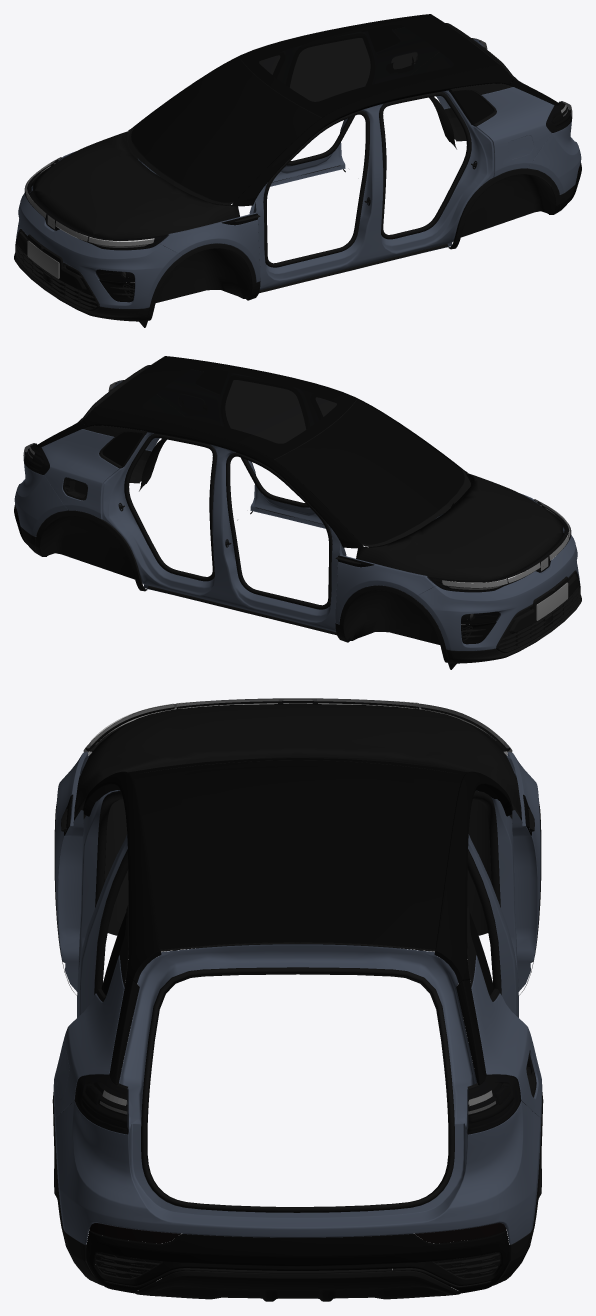
File: Sheel.fbx
3 renders of one model, top to bottom at view 1: azimuth 30°, elevation 25°; view 2: azimuth 150°, elevation 25°; view 3: azimuth 270°, elevation 25°, orthographic. The views are drawn at different scales.
Visible parts, largest first — view 1: Sheel_other01, Sheel_CarPaint01, Sheel_FrontWindshield, Sheel_RoofGlass, polySurface797, Sheel_LightGlass, Sheel, Electricity, back_glass, LicensePlate_front, Headlamps_glass; view 2: Sheel_other01, Sheel_CarPaint01, Sheel_FrontWindshield, Sheel_RoofGlass, Sheel_LightGlass, Sheel, back_glass, LicensePlate_front, Headlamps_glass; view 3: Sheel_other01, Sheel_CarPaint01, Sheel_RoofGlass, Sheel_LightGlass, polySurface797, BackFollowing_light, Sheel, back_glass, Sheel_FrontWindshield, Electricity.
Part boxes in pixels (<box>): Sheel_other01: <box>14,14,581,327</box>; Sheel_CarPaint01: <box>15,39,581,308</box>; Sheel_FrontWindshield: <box>131,57,321,202</box>; Sheel_RoofGlass: <box>239,14,498,117</box>; polySurface797: <box>474,87,554,177</box>; Sheel_LightGlass: <box>24,38,572,250</box>; Sheel: <box>26,40,566,245</box>; Electricity: <box>499,91,545,164</box>; back_glass: <box>453,90,493,124</box>; LicensePlate_front: <box>27,240,59,278</box>; Headlamps_glass: <box>95,269,134,282</box>; Sheel_other01: <box>14,356,581,669</box>; Sheel_CarPaint01: <box>14,381,580,650</box>; Sheel_FrontWindshield: <box>274,399,464,544</box>; Sheel_RoofGlass: <box>97,356,356,459</box>; Sheel_LightGlass: <box>23,380,571,592</box>; Sheel: <box>30,447,569,587</box>; back_glass: <box>102,432,142,466</box>; LicensePlate_front: <box>536,582,568,620</box>; Headlamps_glass: <box>461,611,500,624</box>; Sheel_other01: <box>52,701,543,1301</box>; Sheel_CarPaint01: <box>54,752,542,1244</box>; Sheel_RoofGlass: <box>131,760,464,949</box>; Sheel_LightGlass: <box>75,698,520,1134</box>; polySurface797: <box>53,955,124,1119</box>; BackFollowing_light: <box>89,1223,506,1243</box>; Sheel: <box>90,699,503,1105</box>; back_glass: <box>101,912,494,995</box>; Sheel_FrontWindshield: <box>128,758,467,774</box>; Electricity: <box>54,976,120,1100</box>.
Size of the model in its own units: 455 by 146 by 190.
17 materials, 1 textured.
